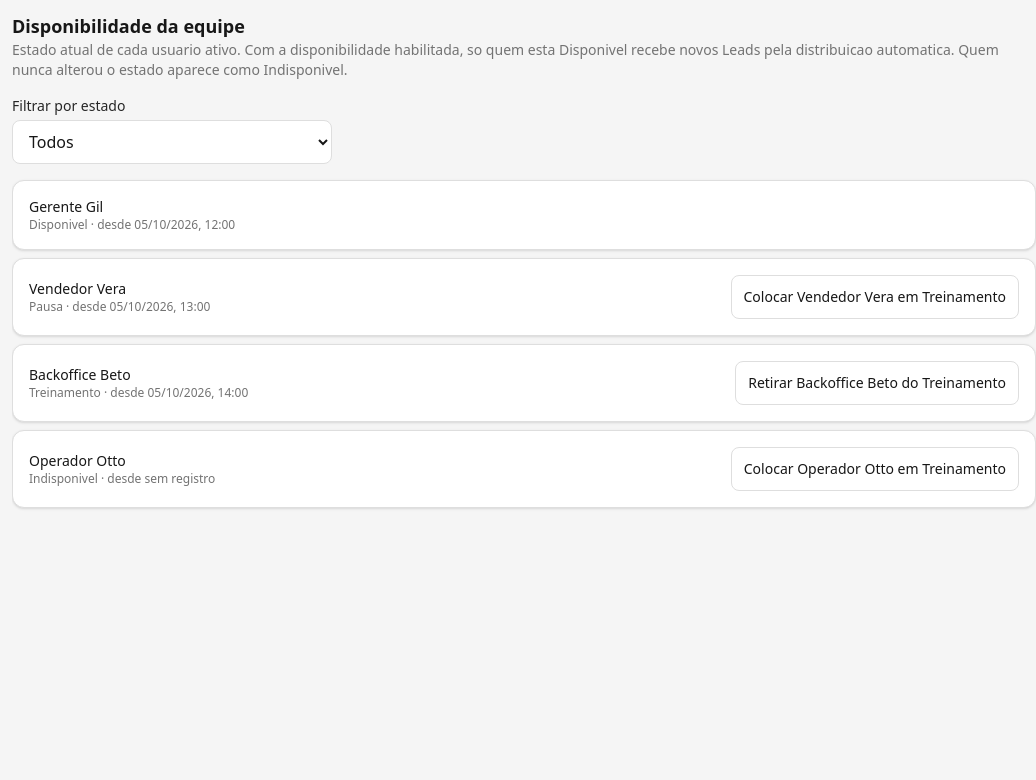
Test: TeamAvailabilityPage › erro ao alterar e exibido (403, desabilitado, inativo)
What coordinates should you click on to do the following:
click the button "Colocar Vendedor Vera em Treinamento"
I would click on:
 (875, 297)
Its box is [730,275,1019,319].
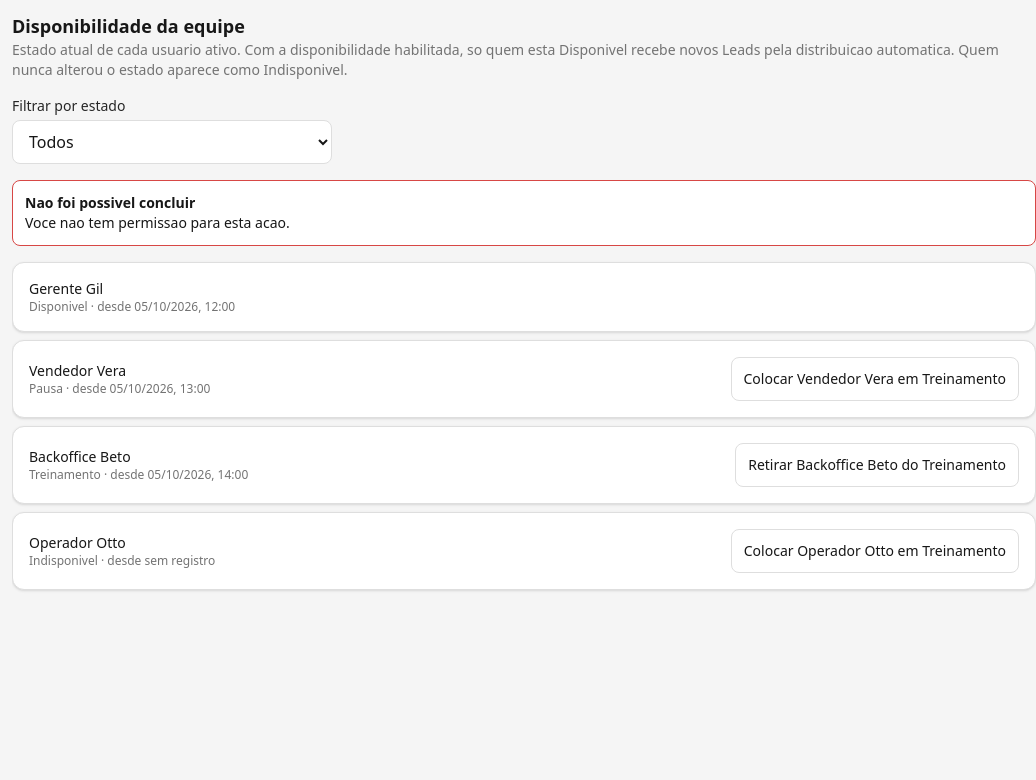
Check: the text "Voce nao tem permissao para esta acao." is shown, box [25,213,290,232]
What coordinates should you click on to do the following:
click the button "Colocar Operador Otto em Treinamento"
I would click on:
 (875, 551)
Its box is [731,529,1019,573].
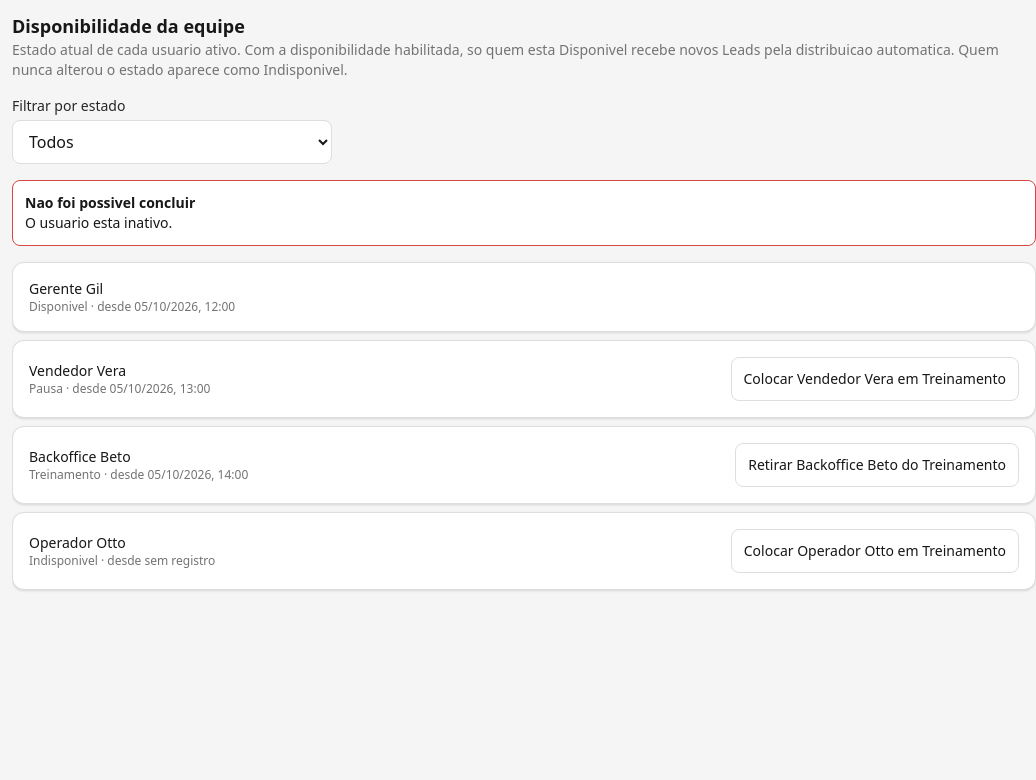
Check: the text "O usuario esta inativo." is shown, box [25,213,172,232]
